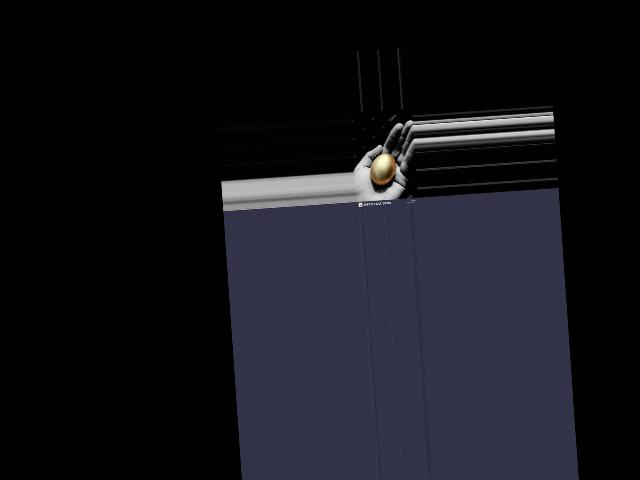egg: (369, 152, 397, 185)
